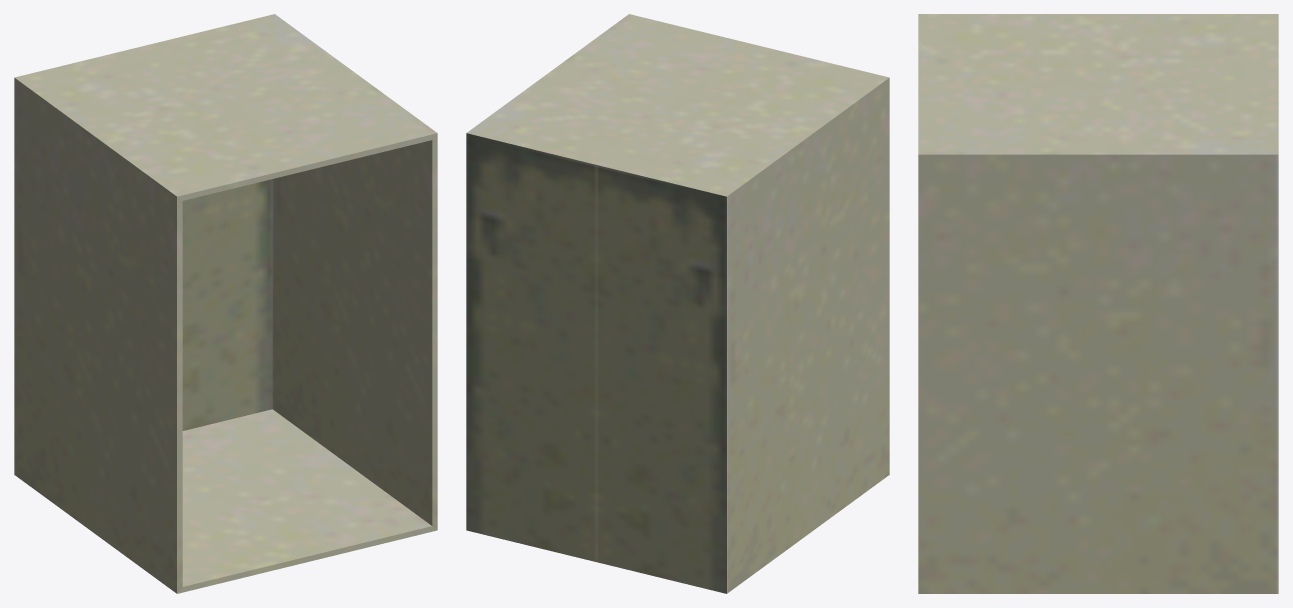
The model's file is file_cabinet_smallest_open.fbx.
3 views of the same model, side by side, from view 1: azimuth 30°, elevation 25°; view 2: azimuth 150°, elevation 25°; view 3: azimuth 270°, elevation 25° (orthographic). The views are drawn at different scales.
Parts seen in each view (by area): view 1: file_cabinet_smallest_open; view 2: file_cabinet_smallest_open; view 3: file_cabinet_smallest_open.
Part boxes in pixels (<box>): file_cabinet_smallest_open: <box>14,14,437,593</box>; file_cabinet_smallest_open: <box>466,14,889,593</box>; file_cabinet_smallest_open: <box>918,14,1278,593</box>.
Size of the model in its own units: 48.47 by 70.64 by 52.46.
1 material, 1 textured.
